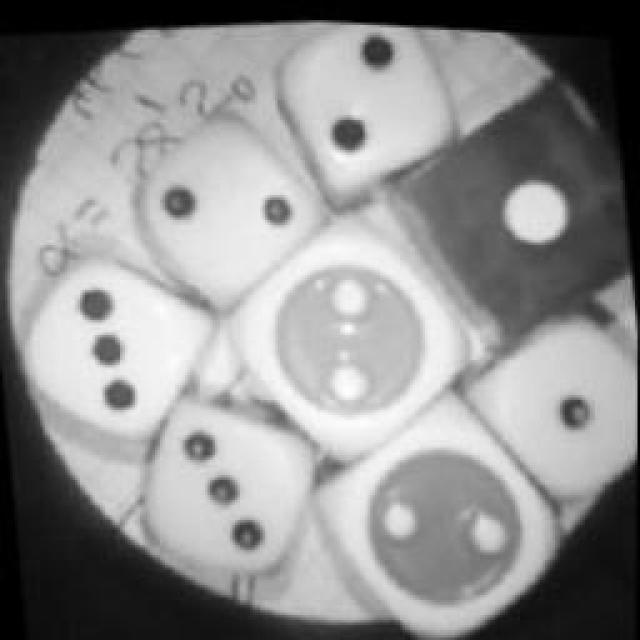dice_1: (370, 54, 640, 348), (452, 285, 638, 500)
dice_2: (210, 189, 480, 461), (301, 379, 564, 639), (118, 94, 332, 318), (264, 12, 464, 202)
dice_3: (8, 228, 228, 454), (122, 376, 330, 582)
